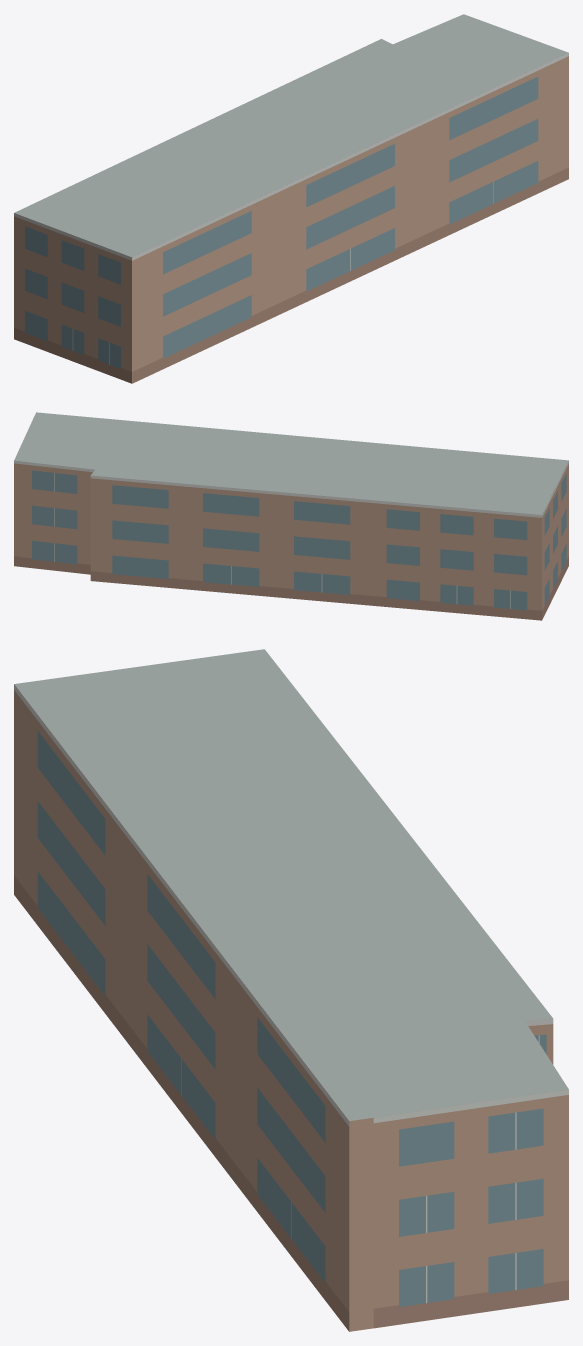
File: survey-upis-32750860.glb
3 views of the same model, one above another, from view 1: azimuth 30°, elevation 25°; view 2: azimuth 150°, elevation 25°; view 3: azimuth 270°, elevation 25° (orthographic). The views are drawn at different scales.
Visible parts, largest first — view 1: survey-upis-32750860.tmp; view 2: survey-upis-32750860.tmp; view 3: survey-upis-32750860.tmp.
Boxes of the visible parts, bbox=[...] form: survey-upis-32750860.tmp: bbox=[14, 14, 568, 383]; survey-upis-32750860.tmp: bbox=[14, 412, 568, 620]; survey-upis-32750860.tmp: bbox=[14, 649, 568, 1331].
Bounding box in the file's own units: 43.98 × 9.15 × 21.85.
